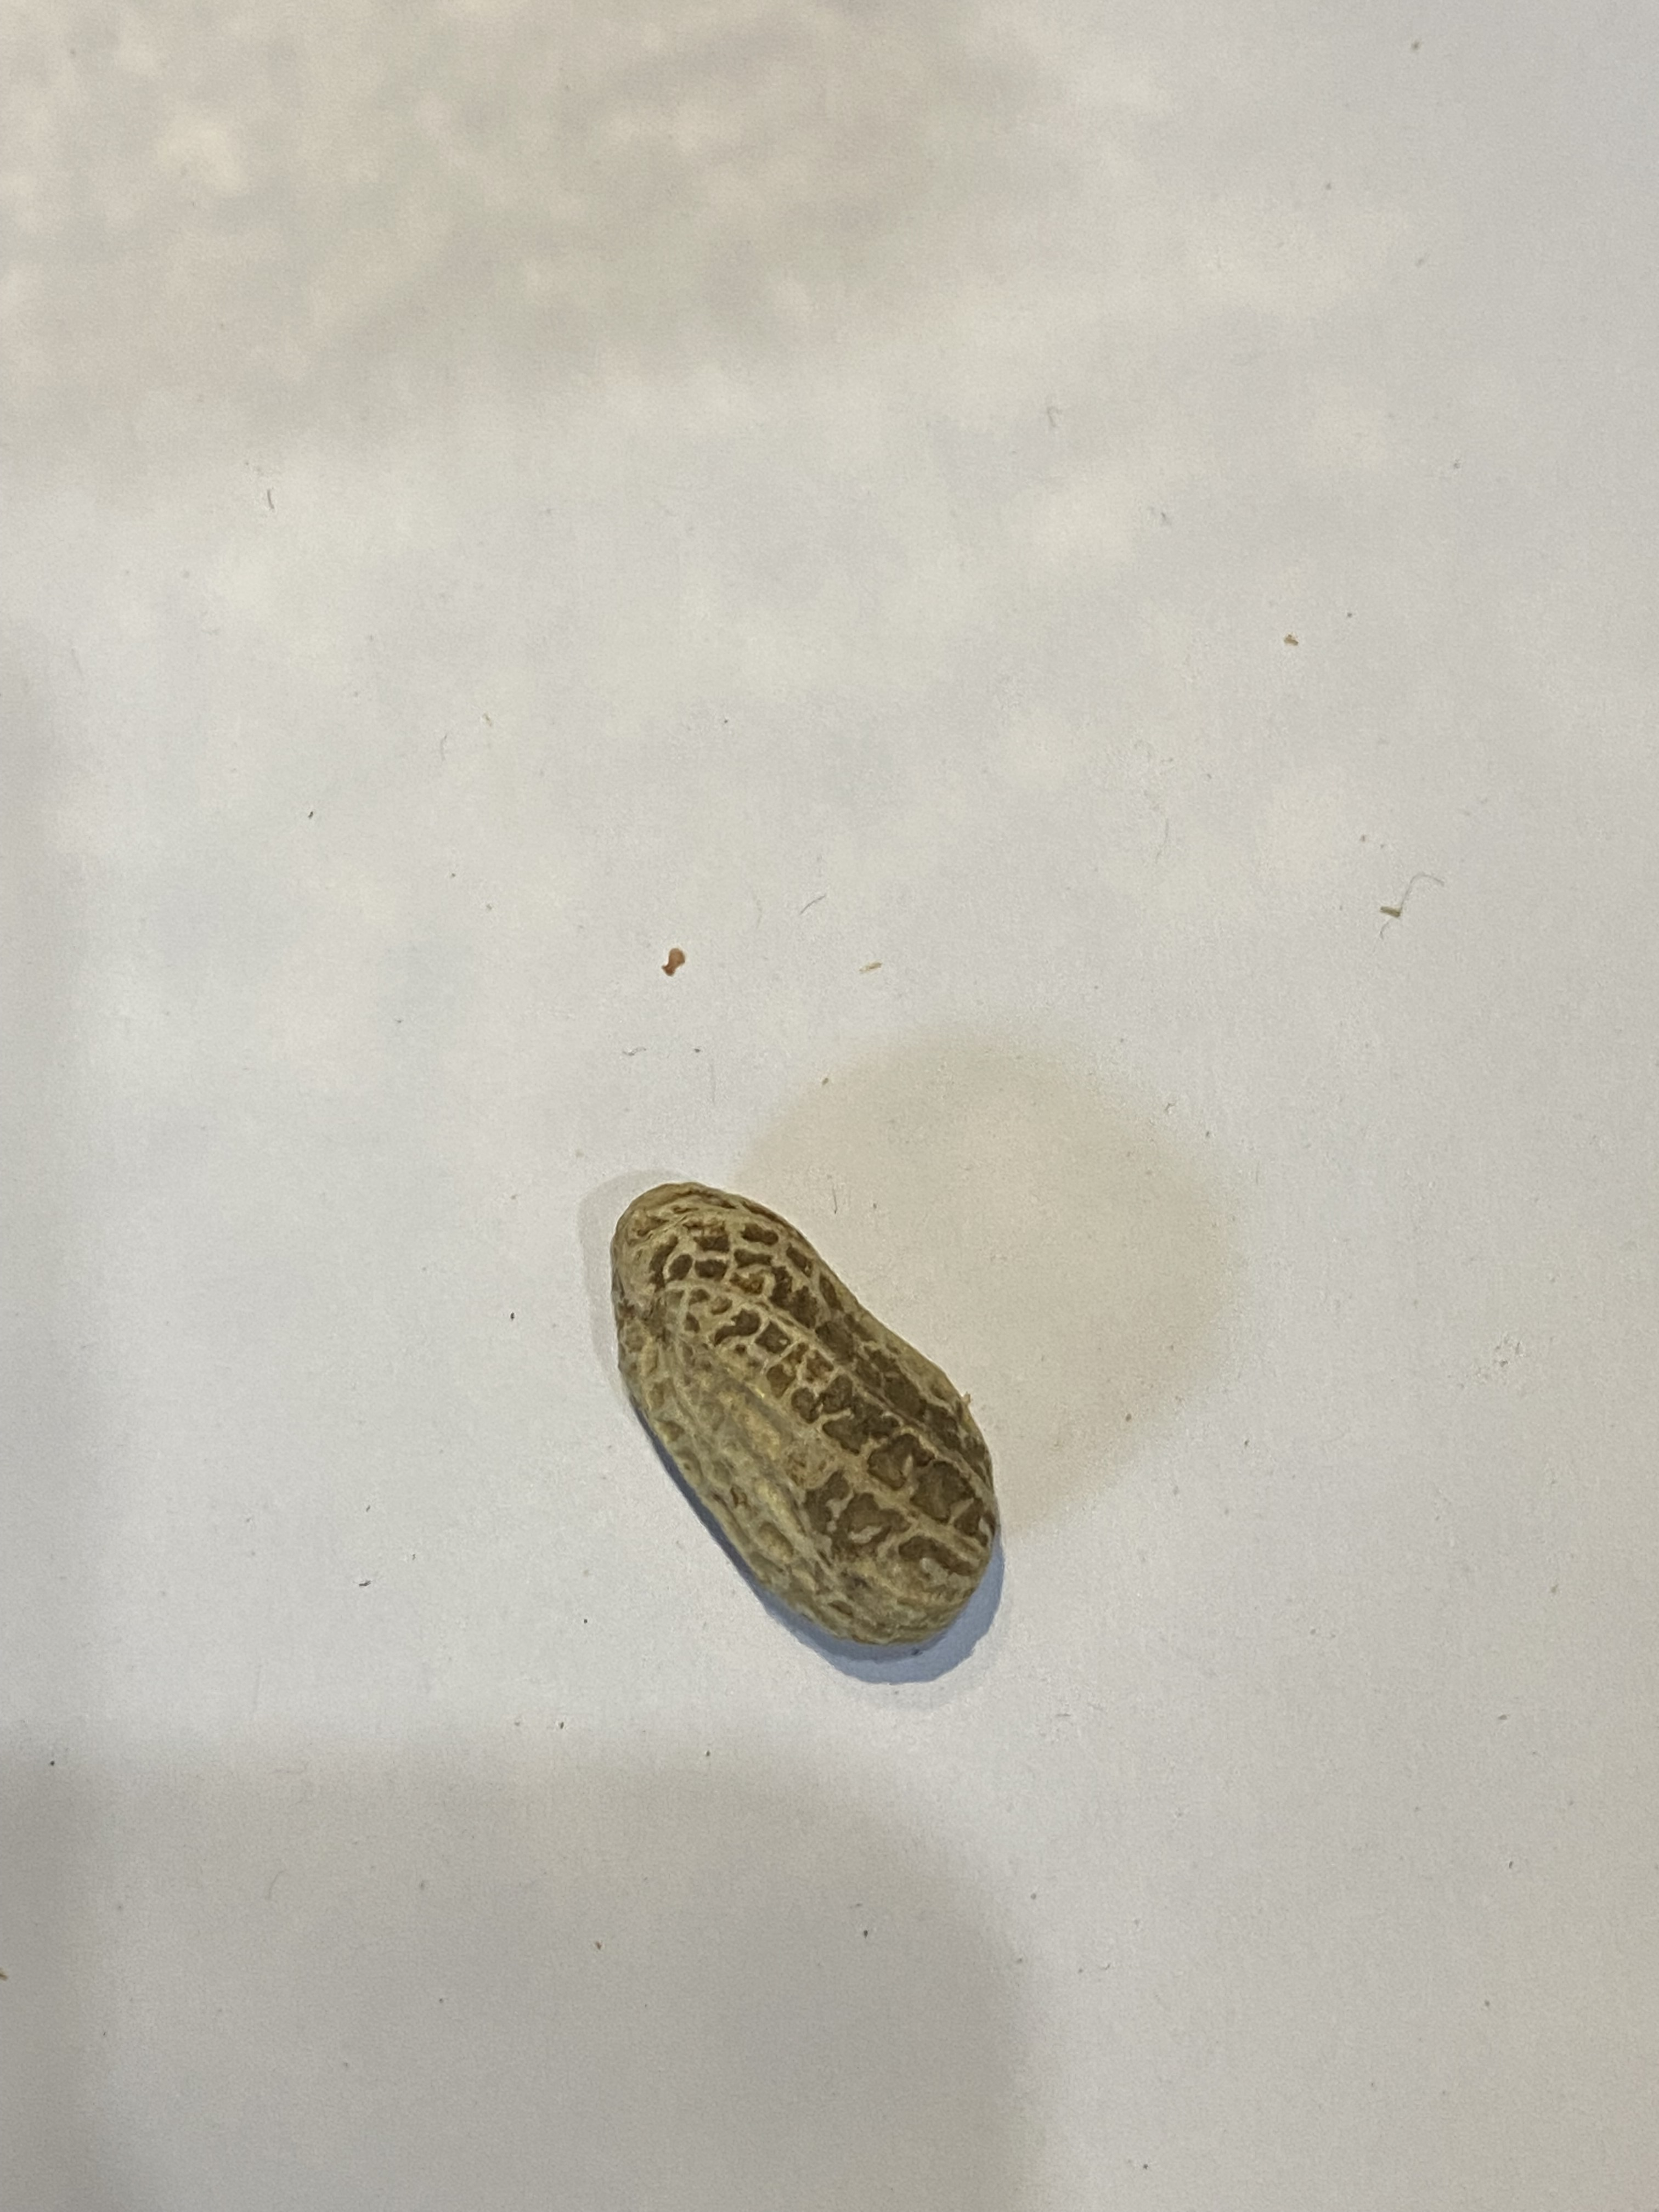kacang2: (587, 1163, 1006, 1676)
